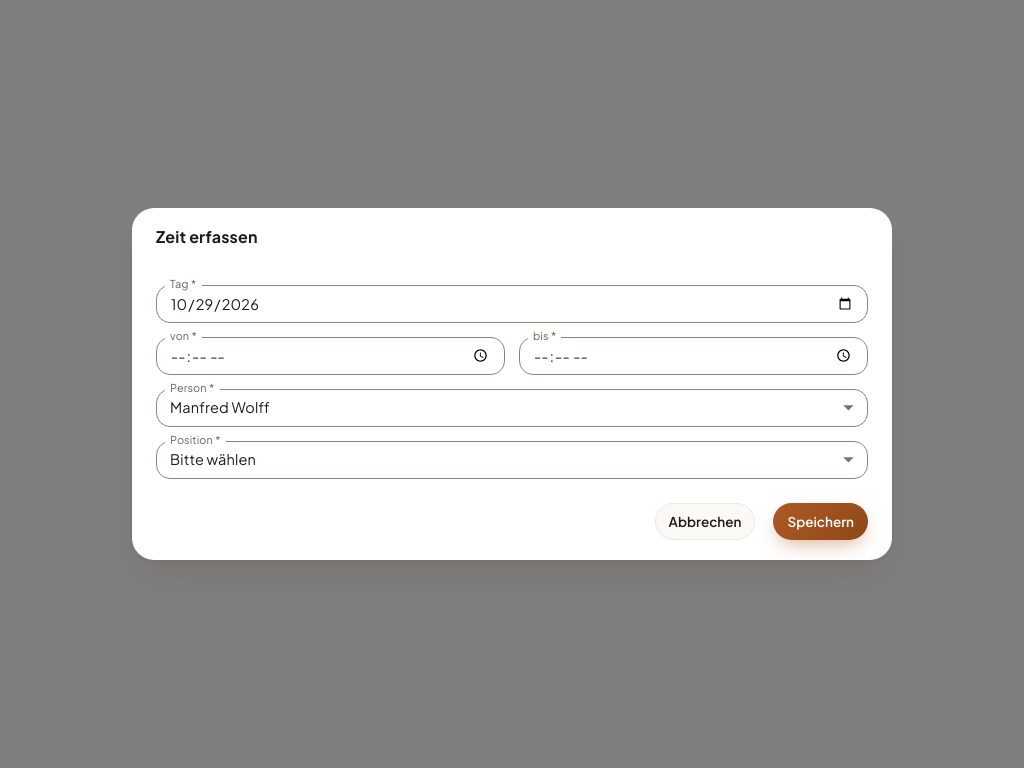
Scenario: ZeiteintragMaske — Erfassen (Kriterium 1, A16) › nennt die fehlenden Angaben am Feld, statt eine halbe Buchung abzuschicken
This screenshot has width=1024, height=768.
Expected: the dropdown labelled "Position" is shown, x1=156 y1=441 x2=868 y2=479
Click the button "Speichern": point(821, 522) x1=774 y1=503 x2=868 y2=540
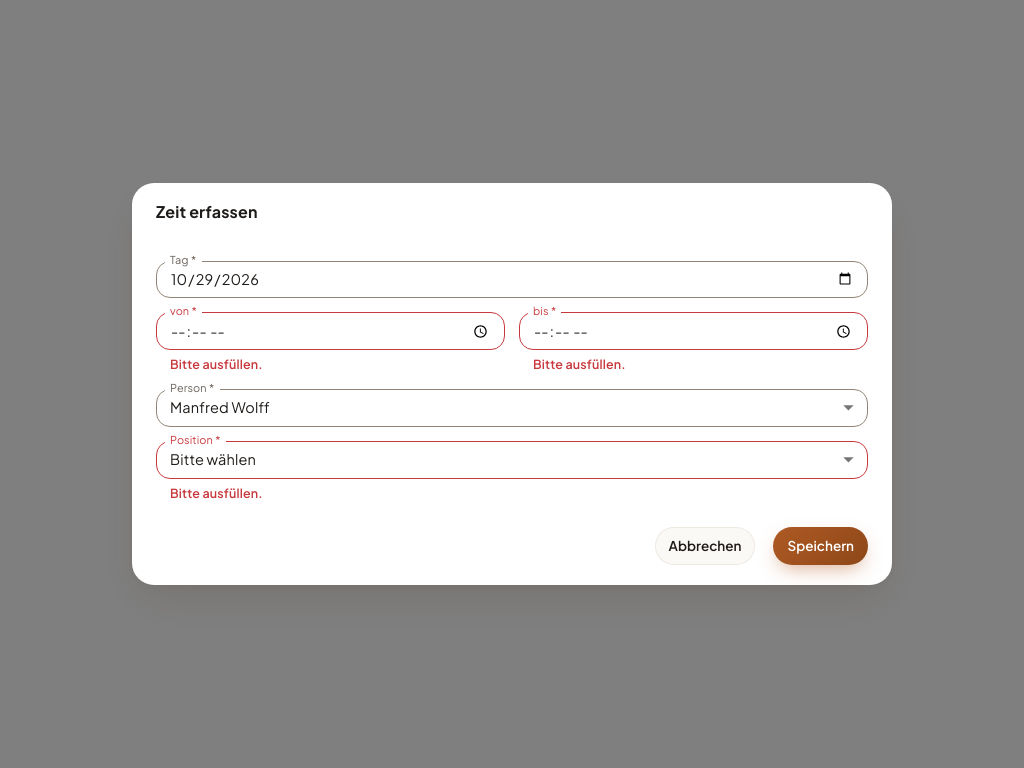
Result: the text "Bitte ausfüllen." is shown 3 times at x1=170 y1=356 x2=263 y2=372; x1=533 y1=356 x2=626 y2=372; x1=170 y1=485 x2=263 y2=501
